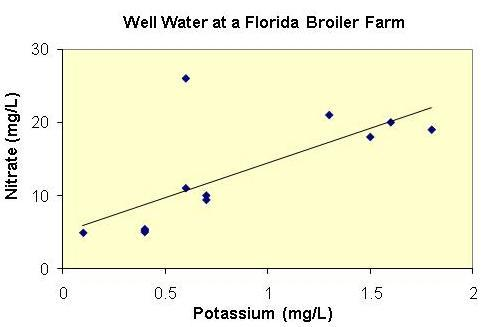axis: (55, 264, 476, 276), (55, 48, 69, 274)
point: (425, 123, 438, 136), (180, 73, 192, 84), (324, 108, 335, 120), (180, 183, 192, 193), (77, 228, 89, 238), (365, 132, 376, 142), (385, 117, 396, 127), (202, 196, 212, 205), (202, 190, 212, 198), (140, 224, 150, 232), (140, 229, 149, 237)
